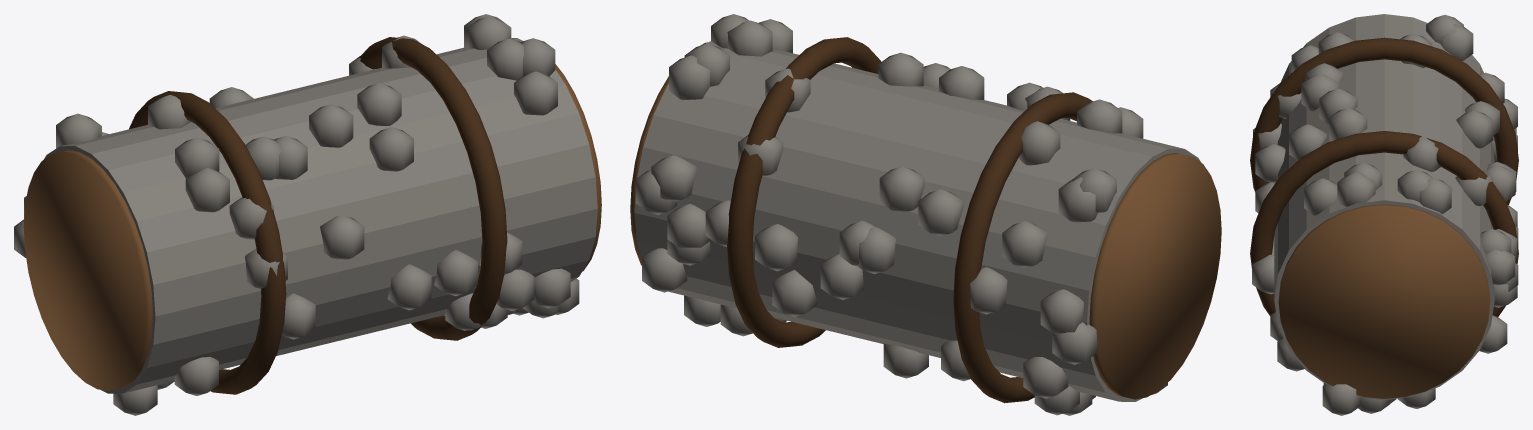
Rendered from fellfutter.glb.
The picture shows the model from 3 angles, left to right: view 1: azimuth 30°, elevation 25°; view 2: azimuth 150°, elevation 25°; view 3: azimuth 270°, elevation 25°; orthographic projection. The views are drawn at different scales.
Visible parts, largest first — view 1: Cylinder; view 2: Cylinder; view 3: Cylinder.
Boxes of the visible parts, x1,y1,x2,y2 form: Cylinder: (14,14,601,415); Cylinder: (630,14,1221,415); Cylinder: (1250,14,1518,415).
Size of the model in its own units: 0.2098 by 0.1231 by 0.122.
